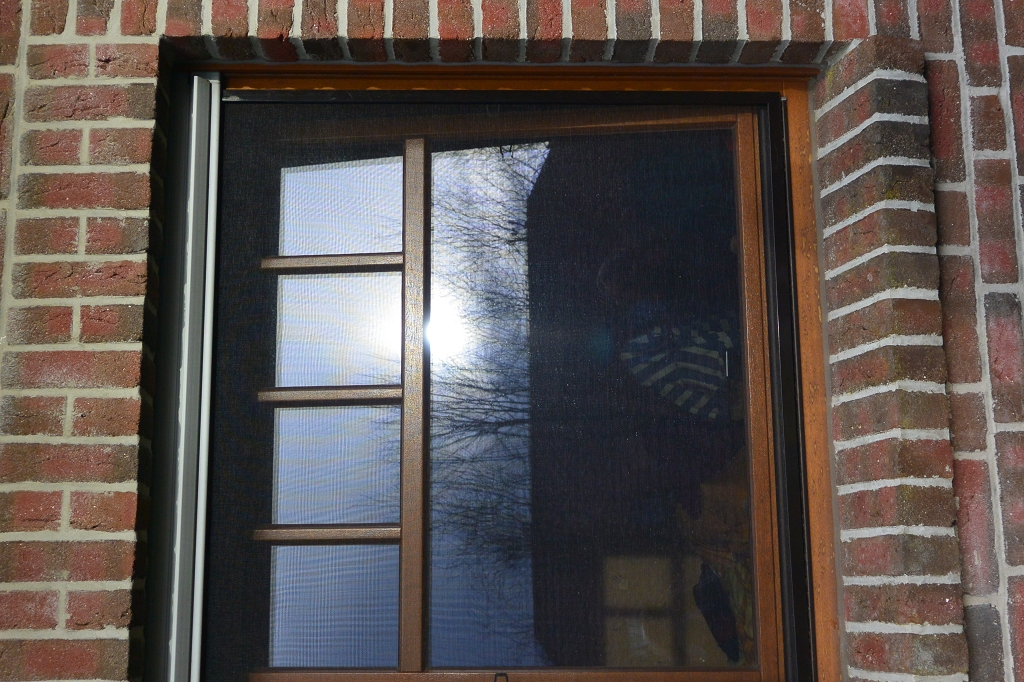windows: (181, 60, 793, 682)
